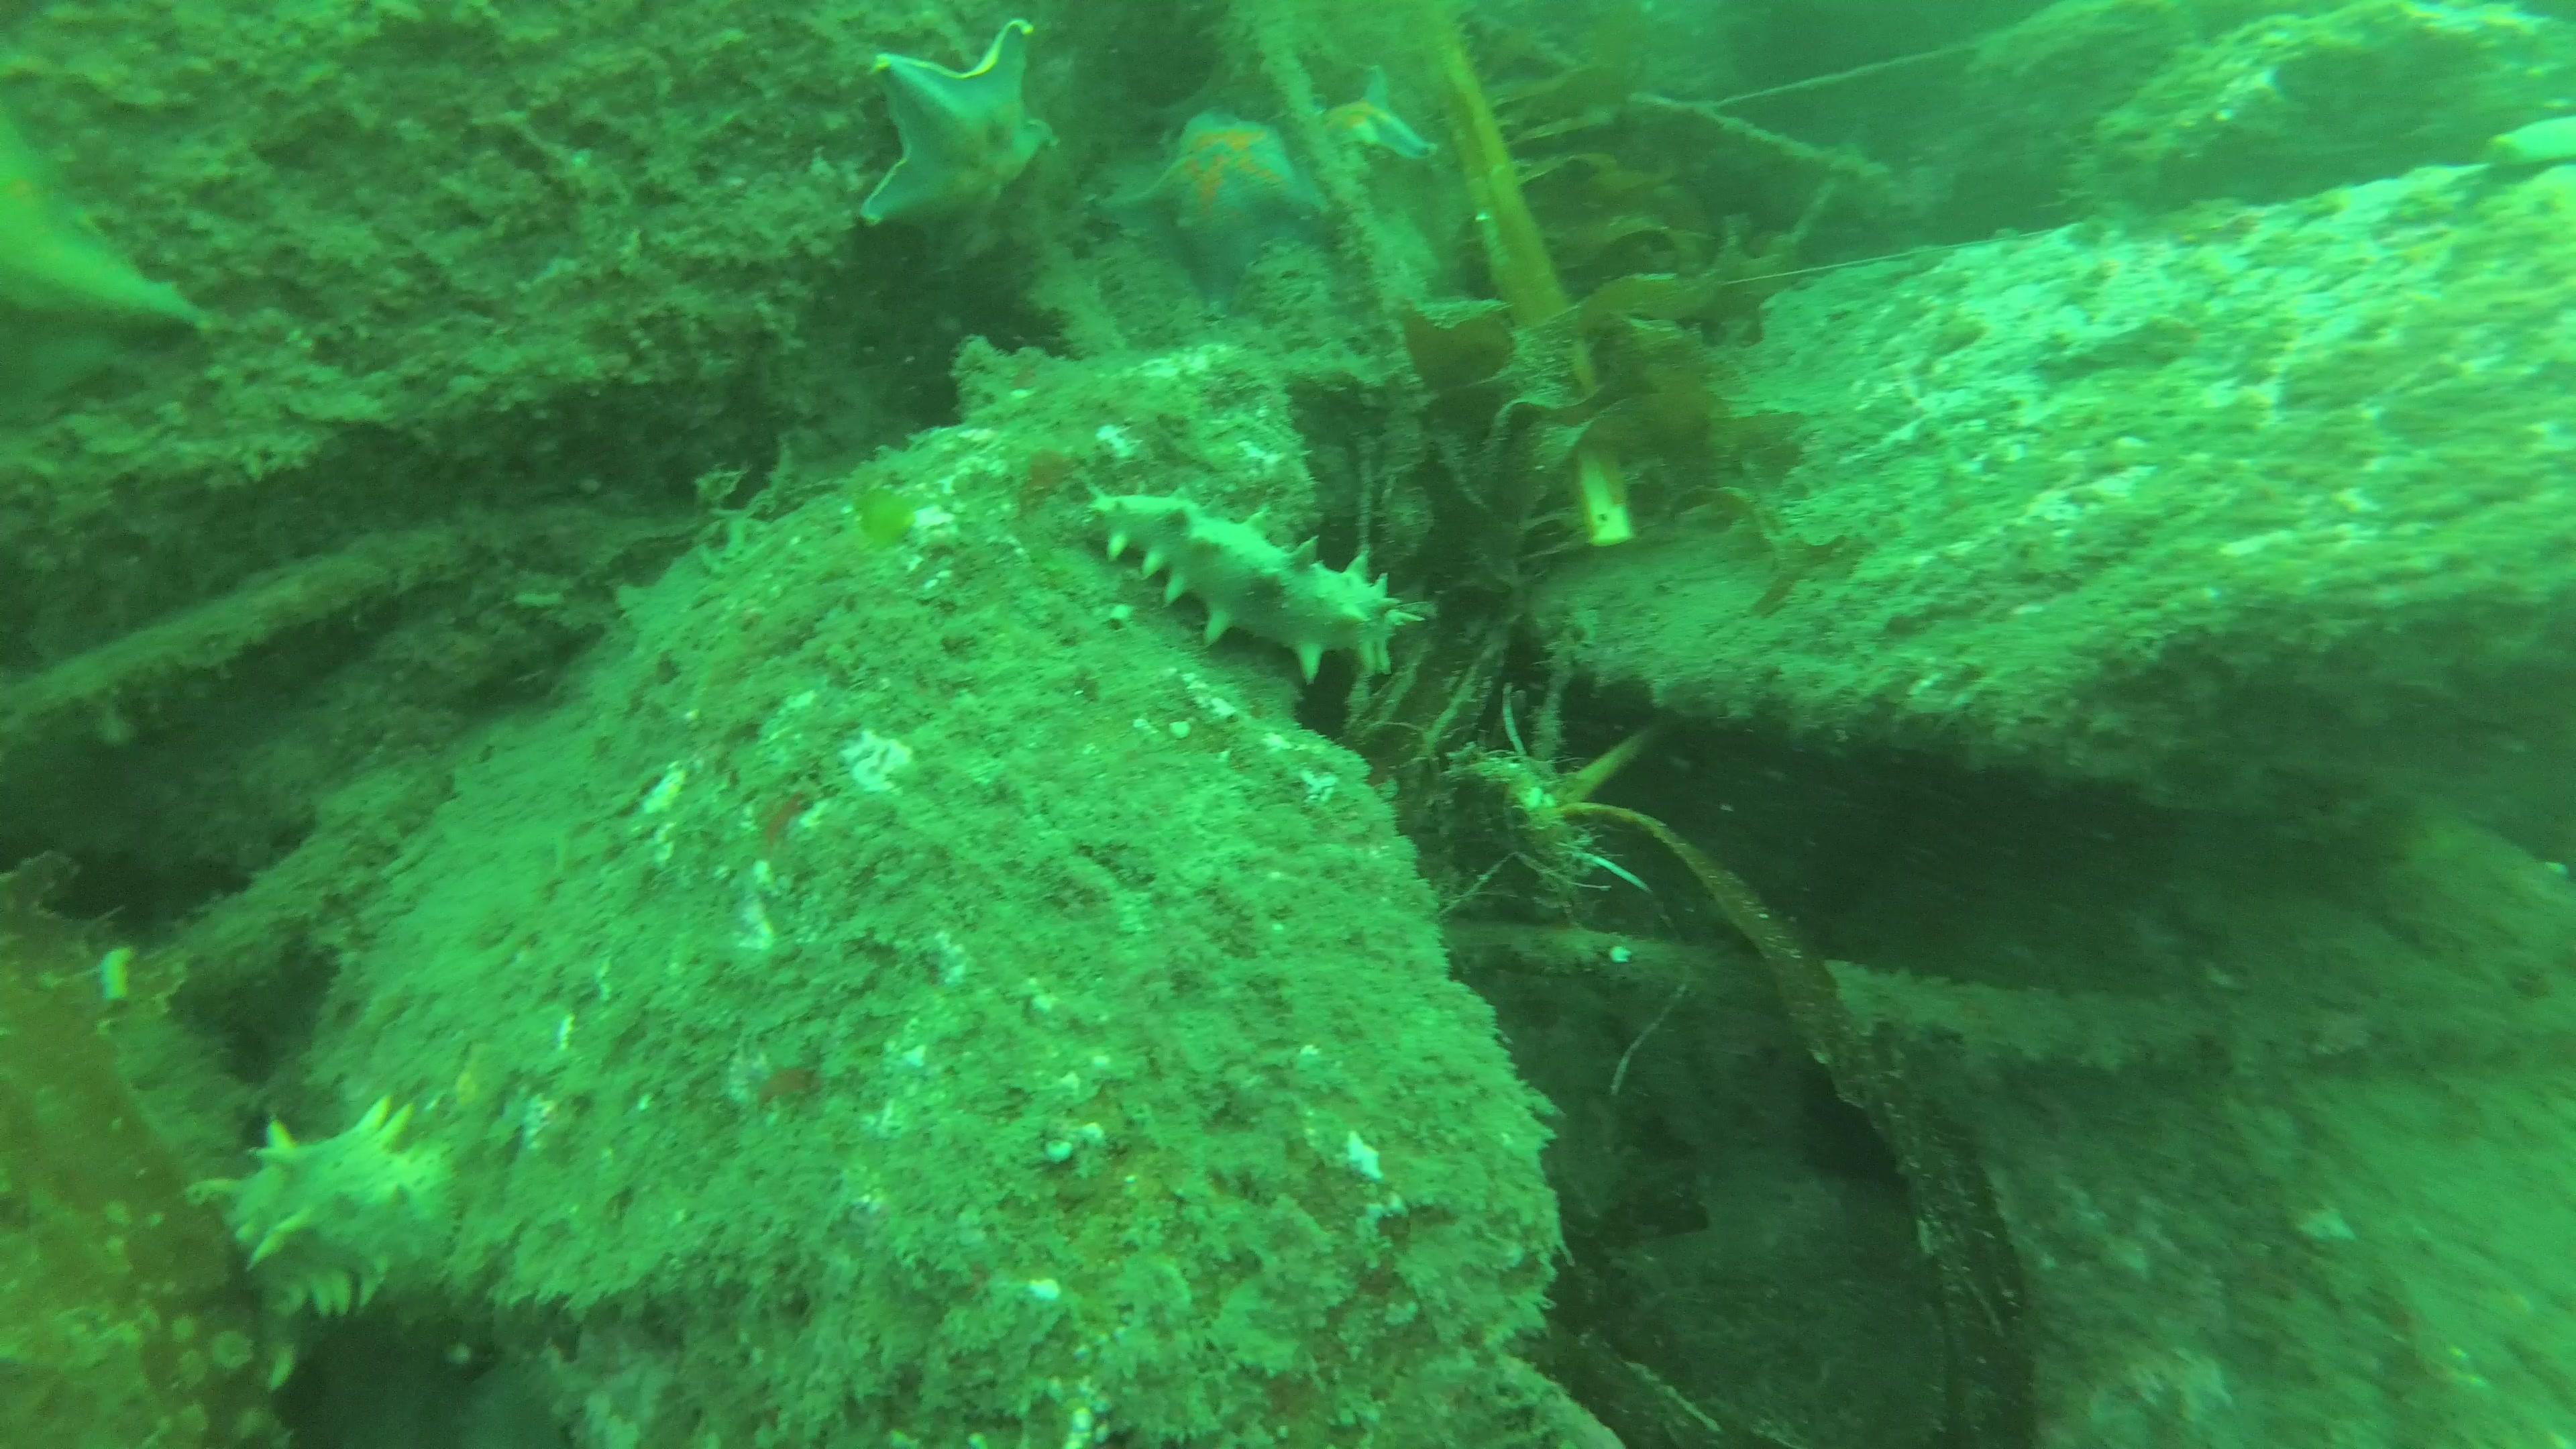holothurian: (180, 1088, 453, 1392), (1067, 469, 1430, 690)
starfish: (0, 111, 212, 441), (1083, 87, 1341, 315), (860, 19, 1067, 267), (1309, 51, 1445, 172)
